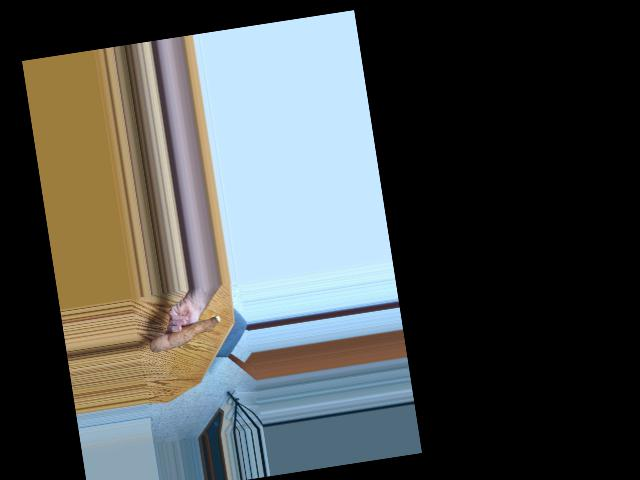sweet_potato: (148, 310, 223, 356)
